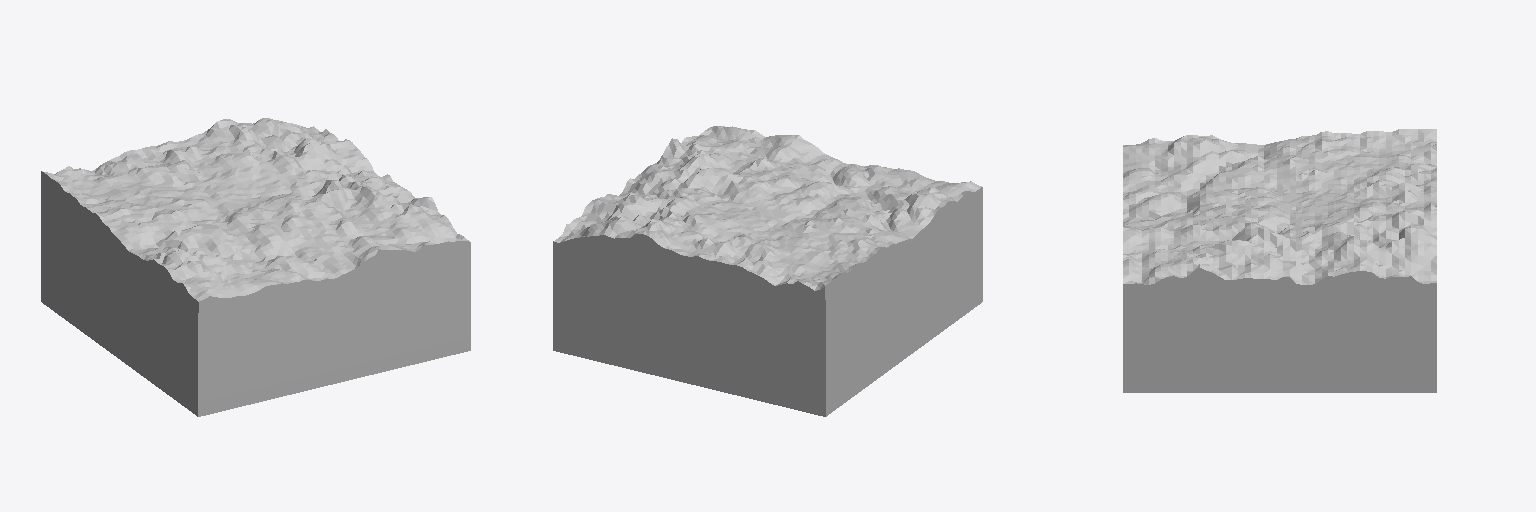
Rendered from block_0_2.obj.
The picture shows the model from 3 angles: view 1: azimuth 30°, elevation 25°; view 2: azimuth 150°, elevation 25°; view 3: azimuth 270°, elevation 25°; orthographic projection.
Visible parts, largest first — view 1: Mesh_3; view 2: Mesh_3; view 3: Mesh_3.
Boxes of the visible parts, x1=… form: Mesh_3: x1=41, y1=118, x2=470, y2=416; Mesh_3: x1=553, y1=126, x2=982, y2=416; Mesh_3: x1=1123, y1=129, x2=1436, y2=392.
Bounding box in the file's own units: 0.1 × 0.0495 × 0.1.